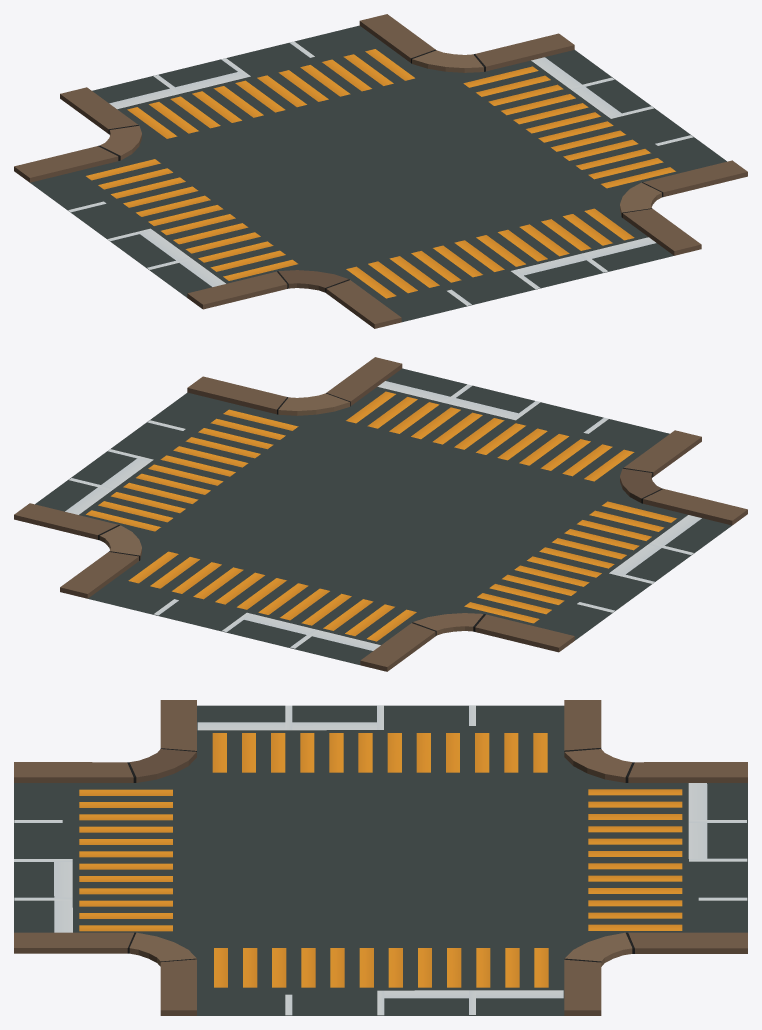
Rendered from Road_1_211.fbx.
The picture shows the model from 3 angles, top to bottom: view 1: azimuth 30°, elevation 25°; view 2: azimuth 150°, elevation 25°; view 3: azimuth 270°, elevation 25°; orthographic projection. The views are drawn at different scales.
Visible parts, largest first — view 1: Road_1_211; view 2: Road_1_211; view 3: Road_1_211.
Boxes of the visible parts, left/top/right/bottom form: Road_1_211: left=14, top=14, right=747, bottom=328; Road_1_211: left=14, top=357, right=747, bottom=671; Road_1_211: left=14, top=700, right=747, bottom=1015.
Bounding box in the file's own units: 3596 × 30 × 3596.
